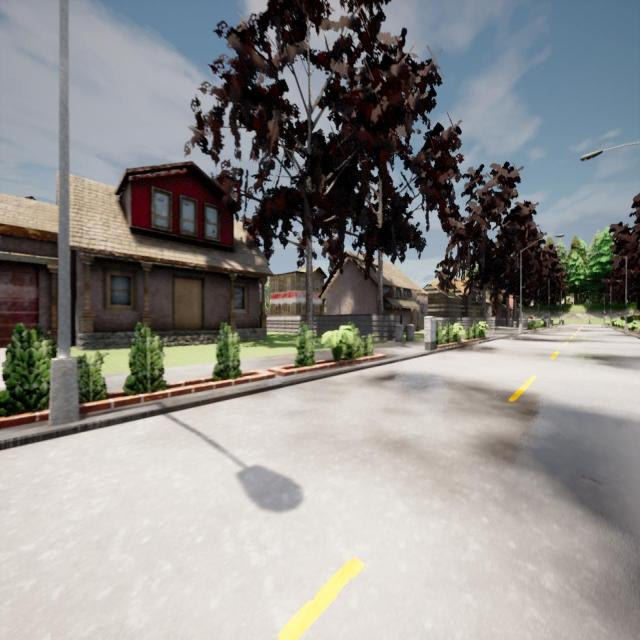traffic_light: (604, 311, 606, 315)
